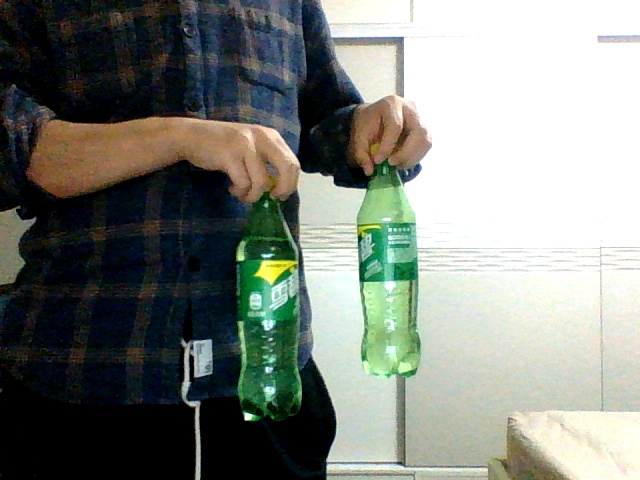Sprite: (236, 177, 300, 423), (357, 142, 420, 377)
